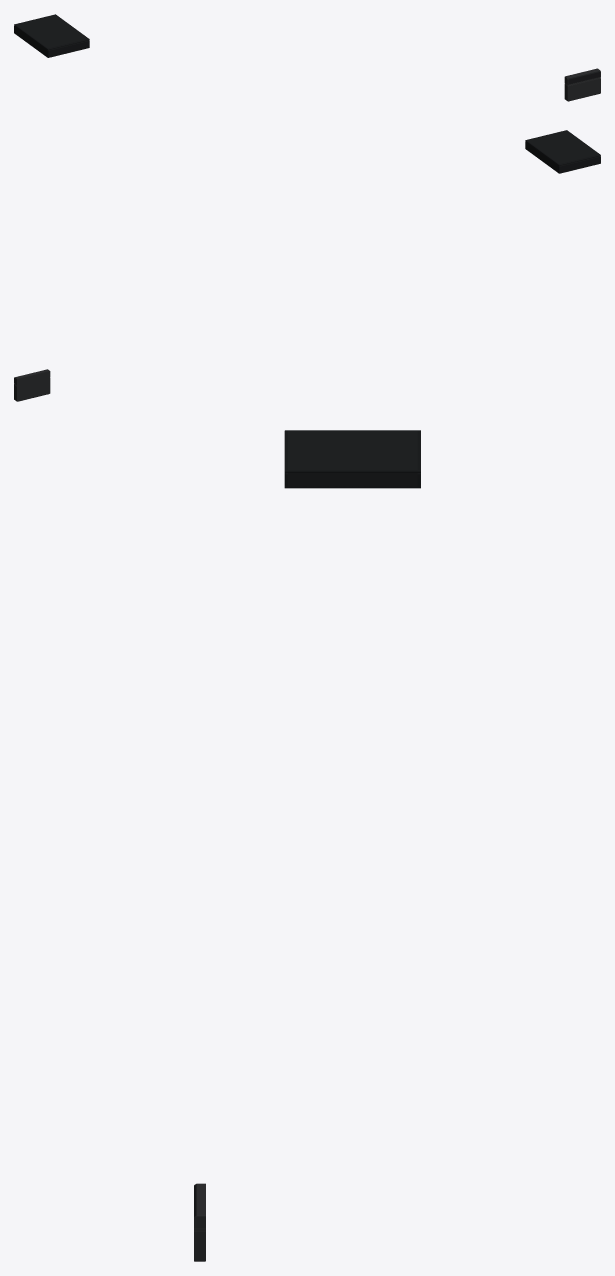
Rendered from master_system_box_cartridge.glb.
3 renders of one model, top to bottom at view 1: azimuth 30°, elevation 25°; view 2: azimuth 210°, elevation 25°; view 3: azimuth 270°, elevation 25°, orthographic. The views are drawn at different scales.
Parts seen in each view (by area): view 1: Box_FRONT, Cartridge_continuous_molded_shell, Case_wall.002, Case_lid, Box_LEFT_SPINE, Cart_LABEL_replace_image; view 2: Box_FRONT, Cartridge_continuous_molded_shell; view 3: Box_FRONT, Box_RIGHT.
Boxes of the visible parts, left/top/right/bottom form: Box_FRONT: left=16, top=15, right=87, bottom=48; Cartridge_continuous_molded_shell: left=564, top=68, right=600, bottom=101; Case_wall.002: left=48, top=41, right=89, bottom=56; Case_lid: left=14, top=14, right=89, bottom=49; Box_LEFT_SPINE: left=14, top=26, right=46, bottom=56; Cart_LABEL_replace_image: left=568, top=72, right=600, bottom=84; Box_FRONT: left=527, top=131, right=598, bottom=163; Cartridge_continuous_molded_shell: left=14, top=369, right=50, bottom=401; Box_FRONT: left=288, top=431, right=417, bottom=469; Box_RIGHT: left=288, top=473, right=417, bottom=486.
Size of the model in its own units: 1.72 by 0.4879 by 0.3196.
Materials: 10 (6 with a texture image).
